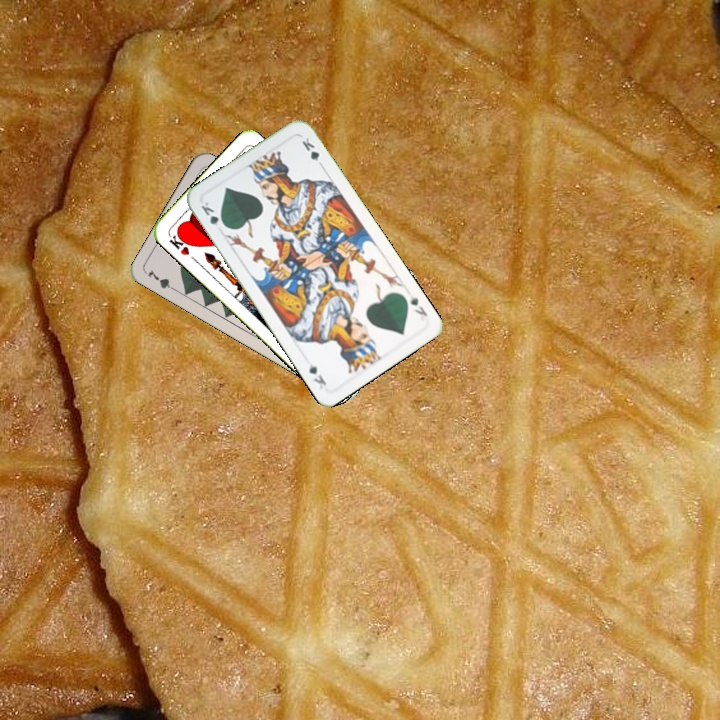G7: (143, 265, 180, 294)
GK: (197, 198, 229, 231), (406, 291, 430, 319)
HK: (165, 228, 194, 258)
